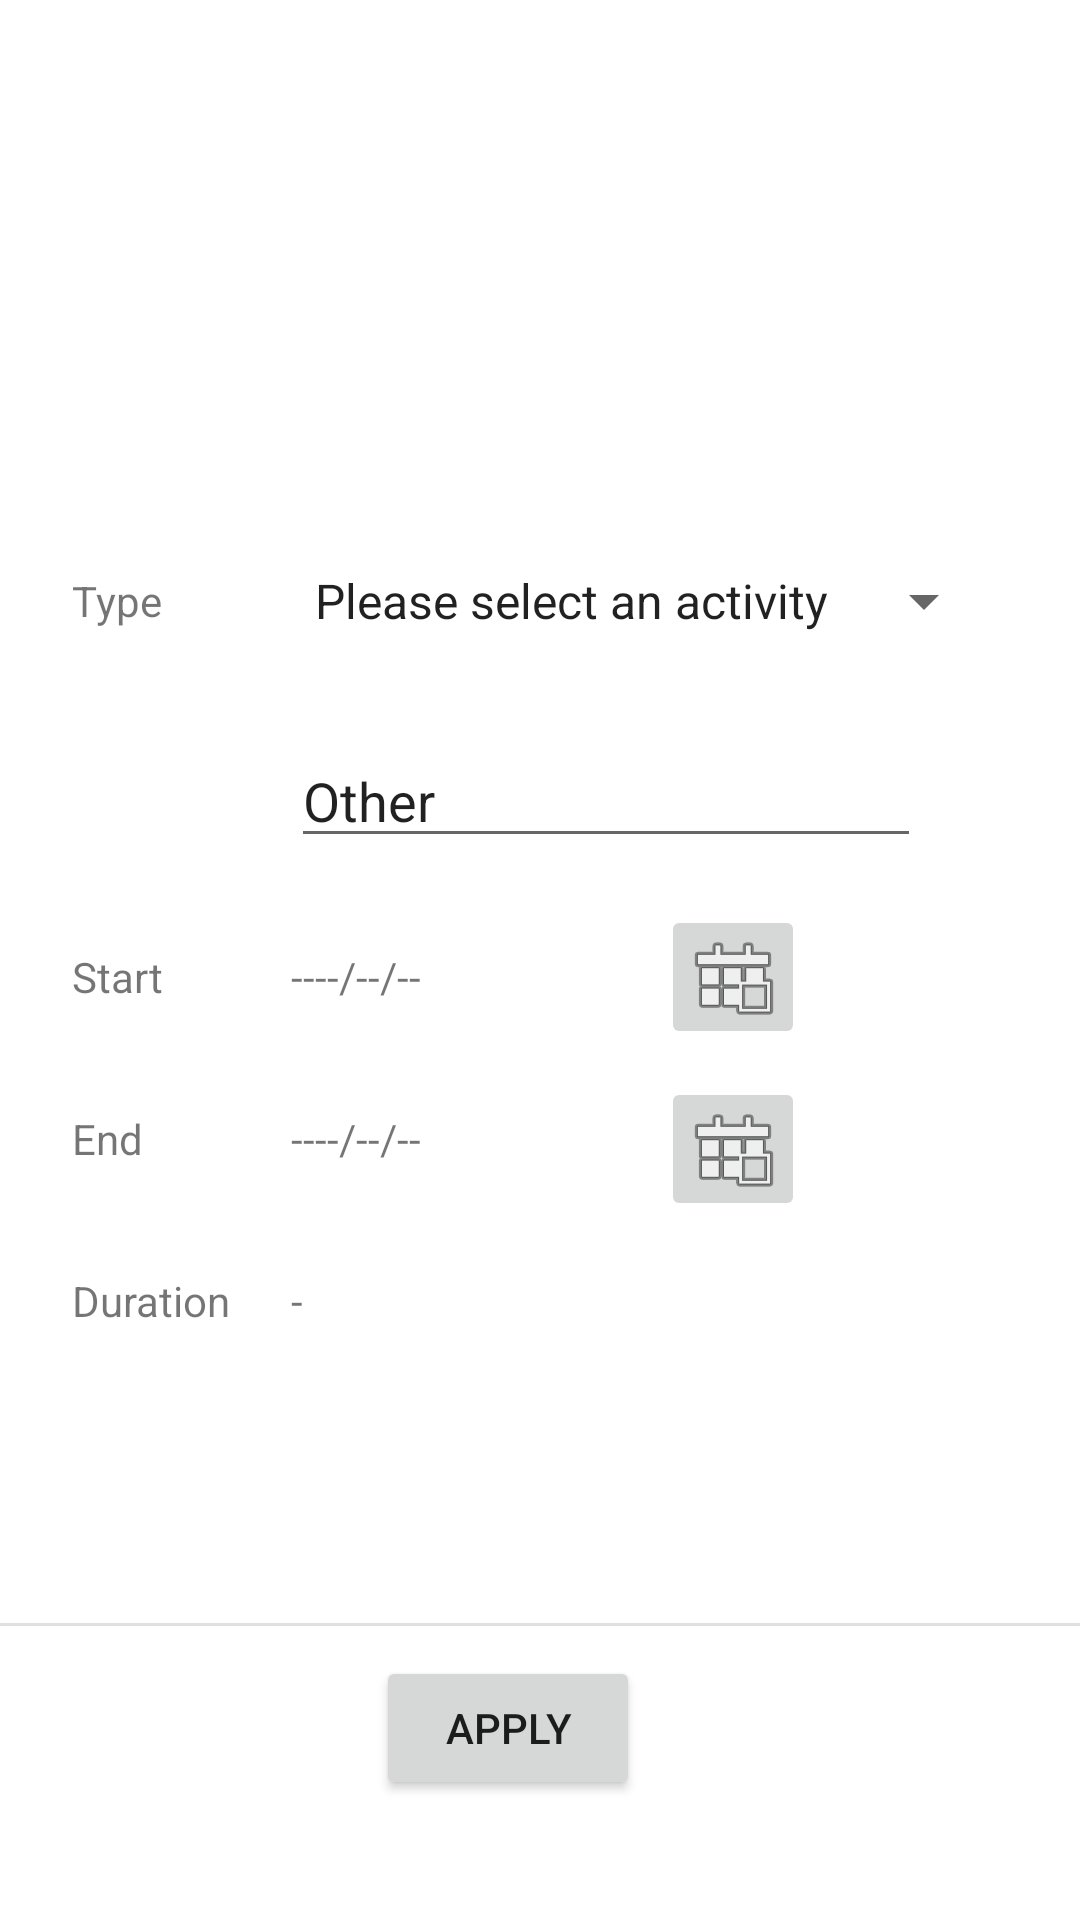

Point at icon controls on the screen. Image size 1080w x 1920h, points as point (x, y).
Select Date: point (733, 977), point (733, 1149)
